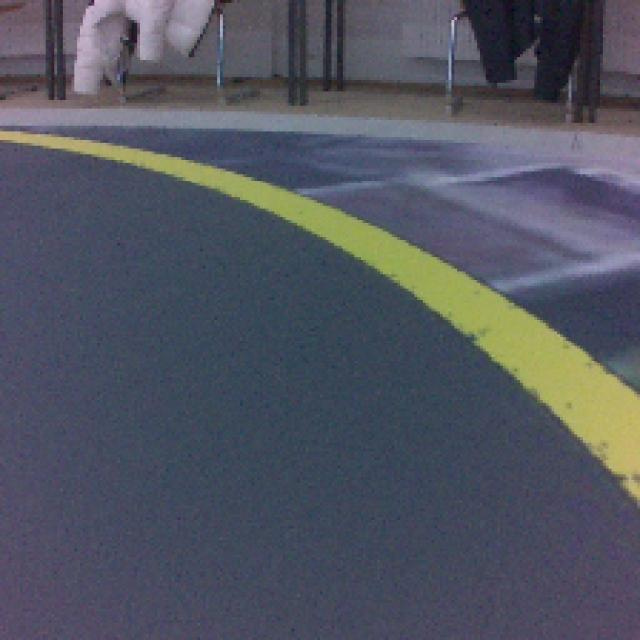Pedestrian crosswalk: (169, 157, 640, 502)
